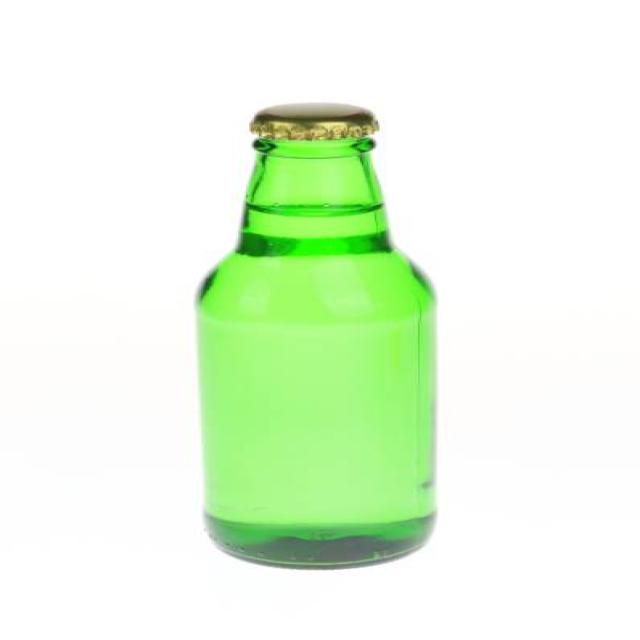electronic: (193, 94, 441, 570)
